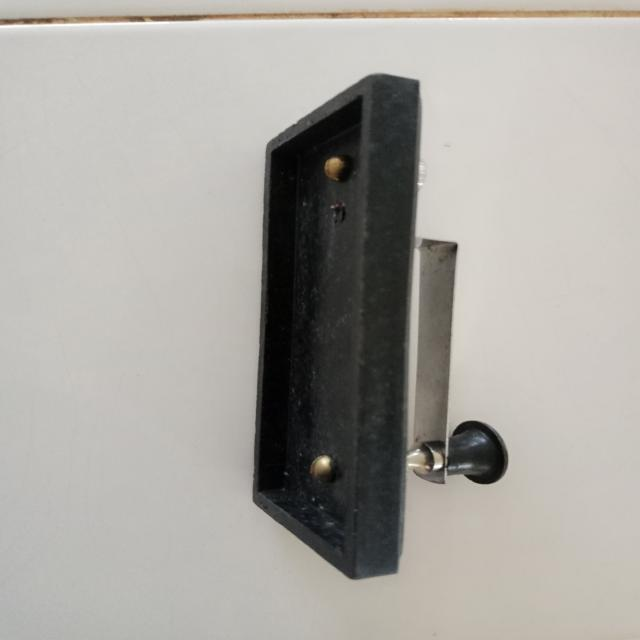Press Key: (248, 62, 532, 588)
